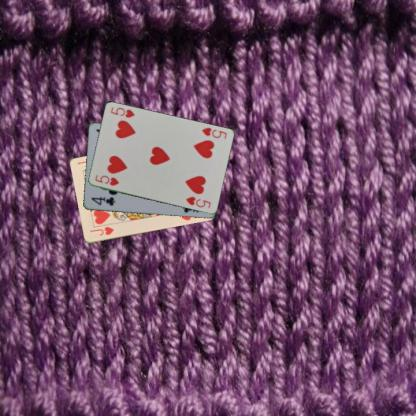4c: (89, 194, 116, 208)
5h: (198, 125, 228, 140), (93, 172, 120, 187)
Jh: (87, 224, 115, 237)
